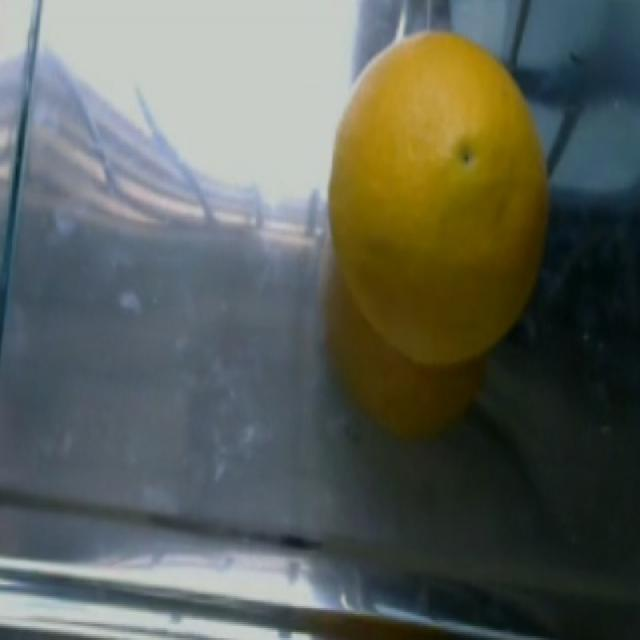Fruit: (306, 16, 566, 352)
